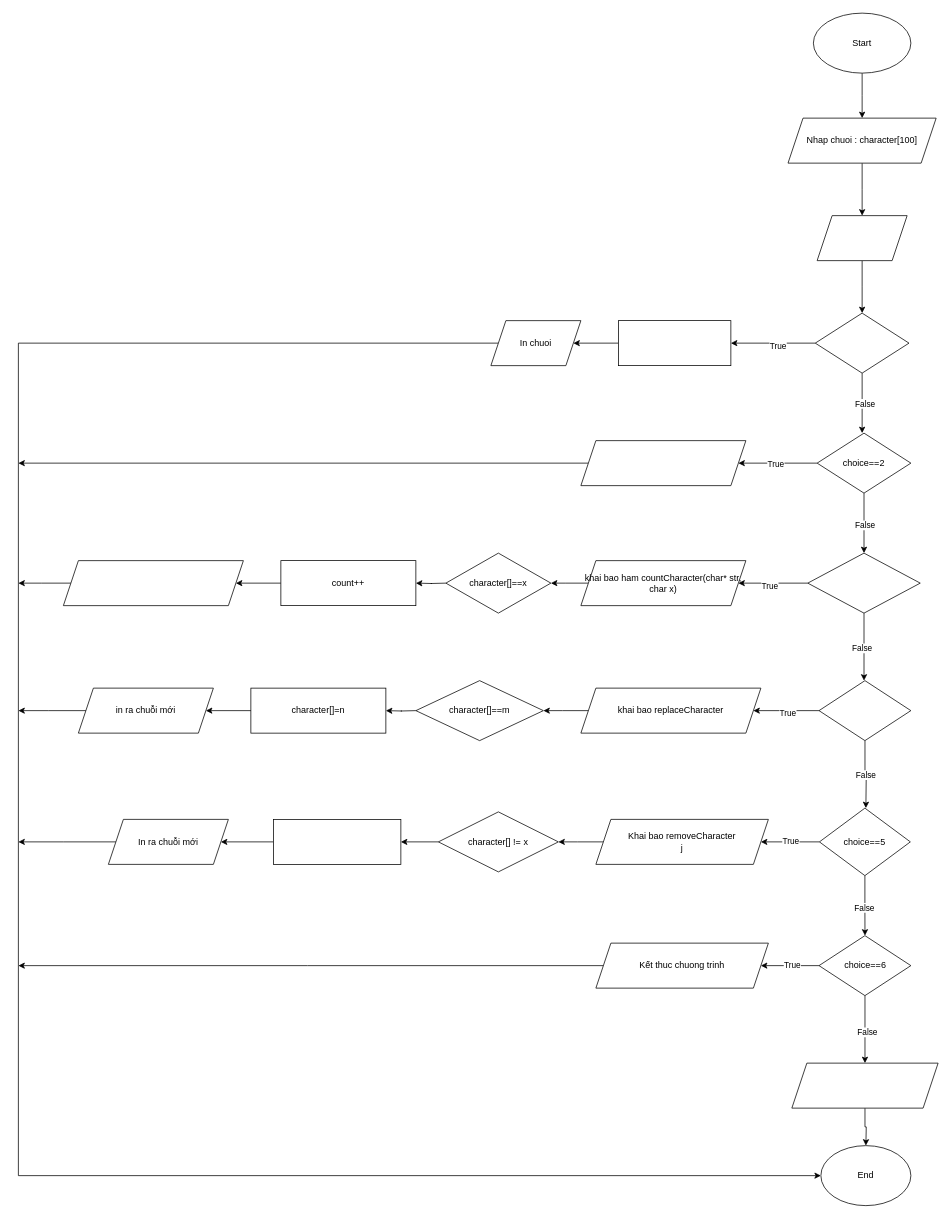
Image size: 952x1219. Some labels were removed from this diagram. The shapes that lost their labels are listed below. From the top down, each one's box as (x1, y1, x2, y2) in pixels, then its label:
(816, 215, 907, 261): choice
(618, 320, 731, 366): Nhap cac ki tu cho day
(814, 312, 909, 373): choice==1
(580, 440, 746, 486): in ra nội dung chuỗi
(63, 560, 243, 606): số phần tử giống phần tử nhập là count
(807, 552, 920, 613): choice==3
(818, 680, 911, 741): choice==4
(273, 819, 401, 864): character[i] = character[j]
(791, 1062, 938, 1108): Không hợp lệ
